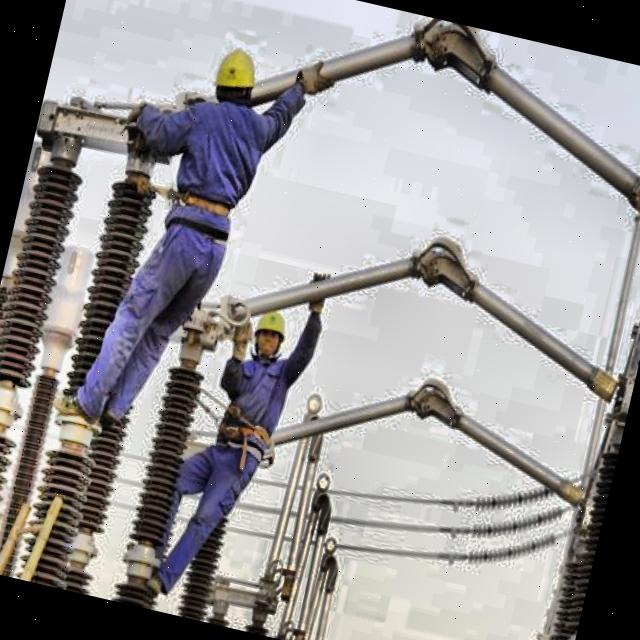helmet: (206, 38, 266, 116), (244, 308, 292, 362)
